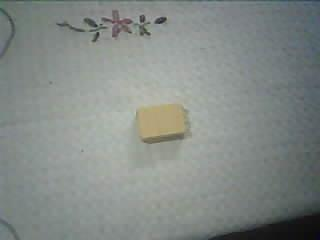lego: (131, 101, 190, 143)
